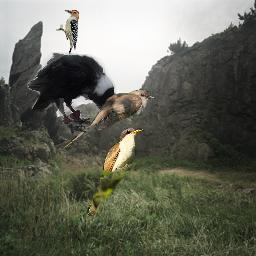Crow: (27, 52, 117, 135)
Cuckoo: (84, 126, 145, 219), (63, 89, 156, 149)
Woodpecker: (56, 10, 79, 56)
